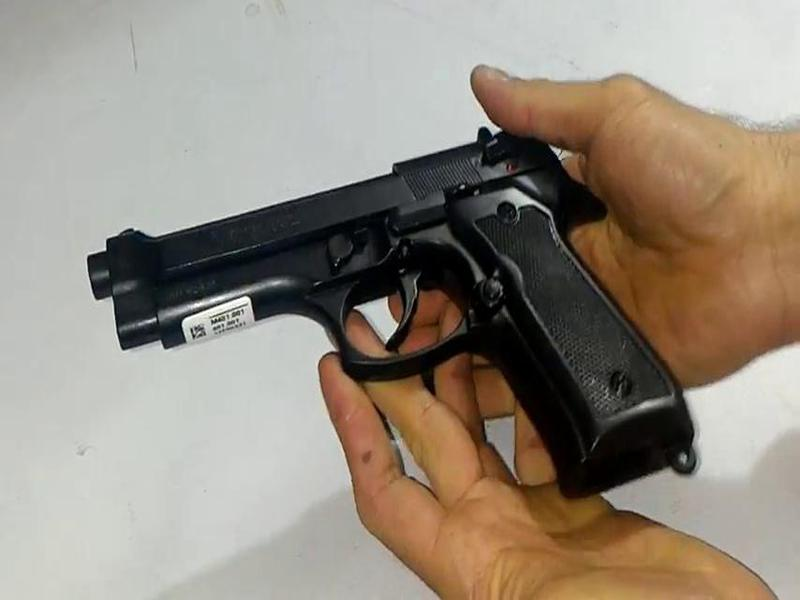Pistola: (88, 137, 704, 486)
